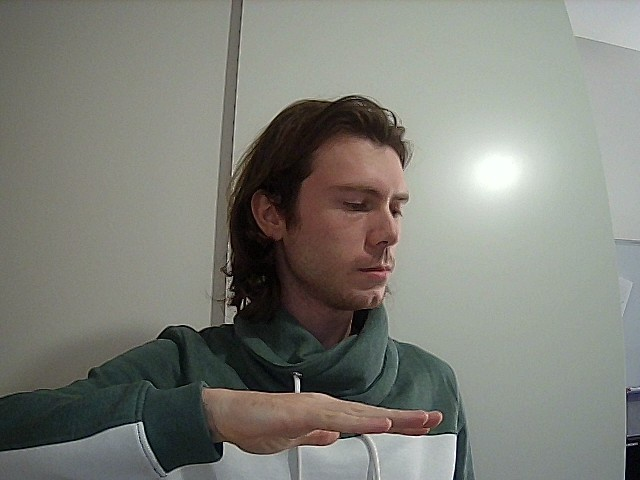space: (1, 375, 476, 478)
